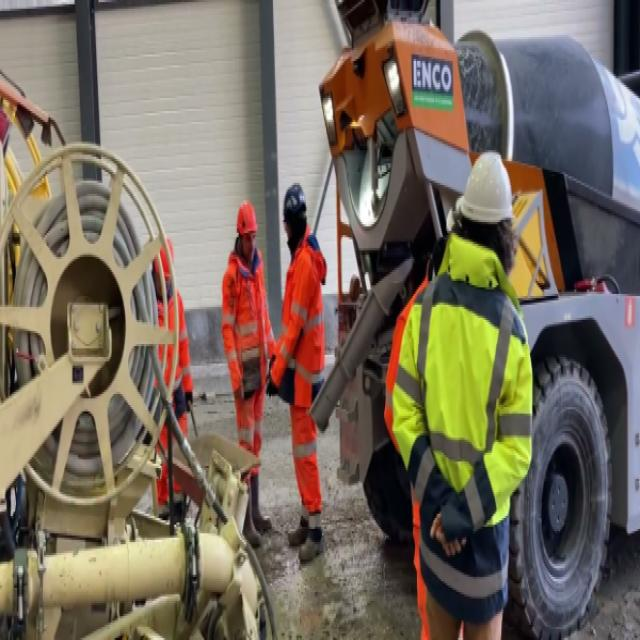hard_hat: (454, 147, 521, 258), (232, 198, 261, 260), (279, 177, 308, 238), (154, 232, 175, 294)
shoes: (234, 472, 276, 559), (284, 506, 328, 569), (156, 496, 189, 528)
vest: (391, 230, 536, 630), (380, 250, 513, 574), (220, 234, 276, 397), (276, 228, 330, 388), (148, 283, 194, 404)
